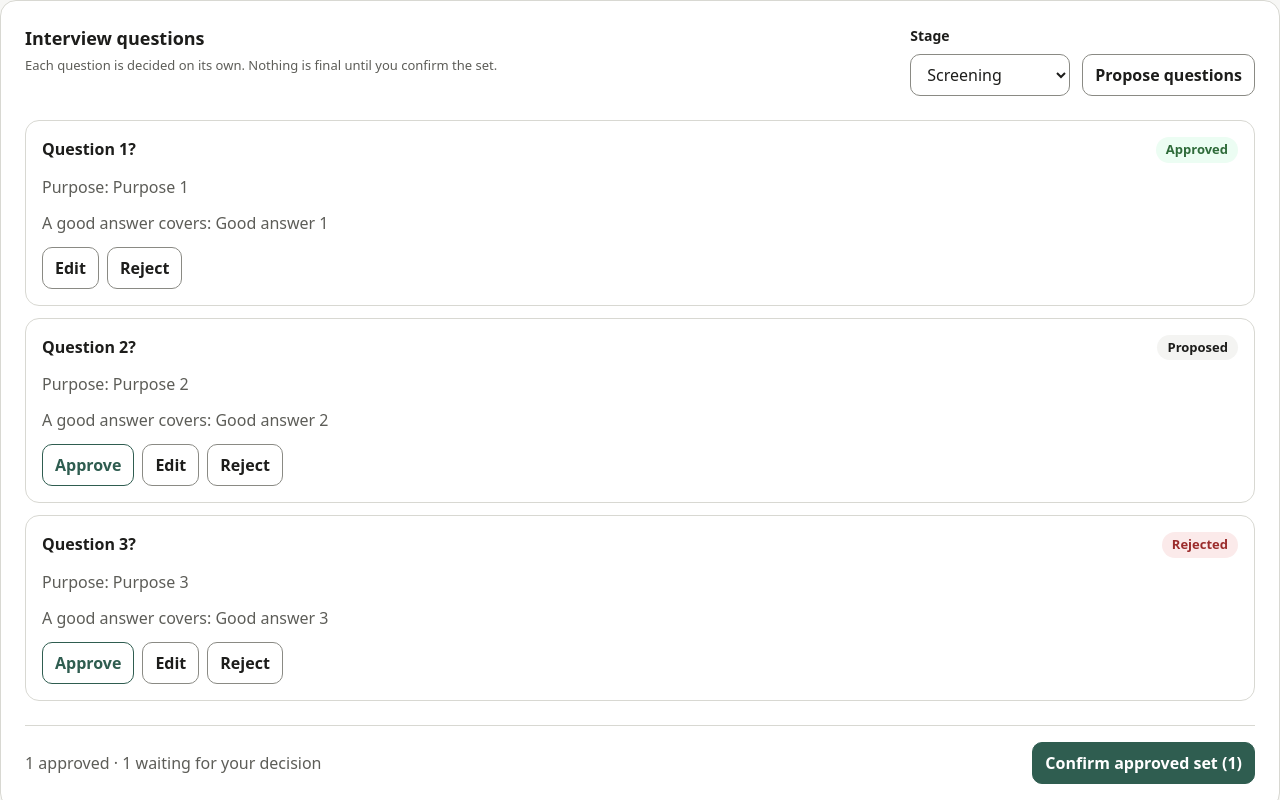
Scenario: QuestionReview › counts approved and waiting questions in the footer and on the confirm button
Expected: the text "1 approved · 1 waiting for your decision" is shown, x1=25 y1=750 x2=322 y2=774
Expected: the button "Confirm approved set (1)" is shown, x1=1032 y1=742 x2=1255 y2=784
Click the button "Approve" below "Question 2?" at coordinates (88, 465), box x1=42 y1=444 x2=134 y2=486
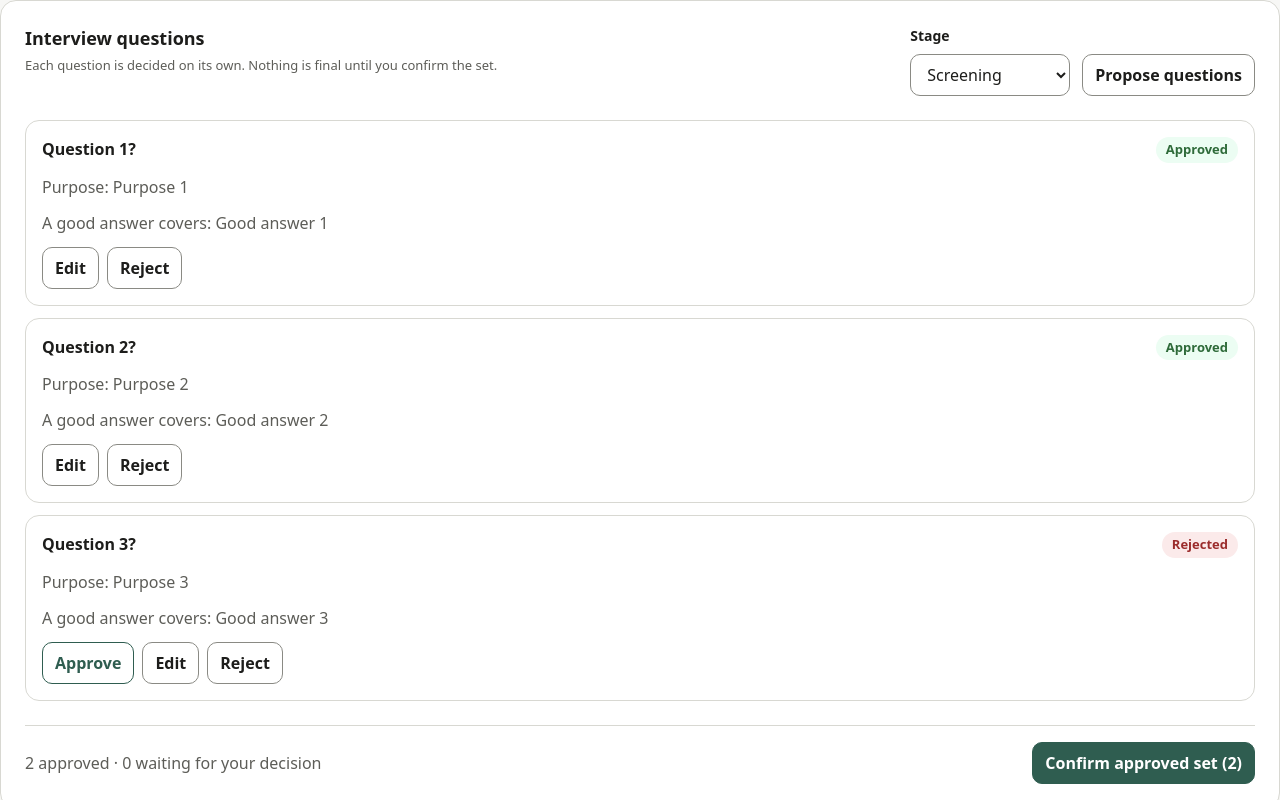
Result: the text "2 approved · 0 waiting for your decision" is shown at x1=25 y1=750 x2=322 y2=774
Result: the button "Confirm approved set (2)" is shown at x1=1032 y1=742 x2=1255 y2=784
